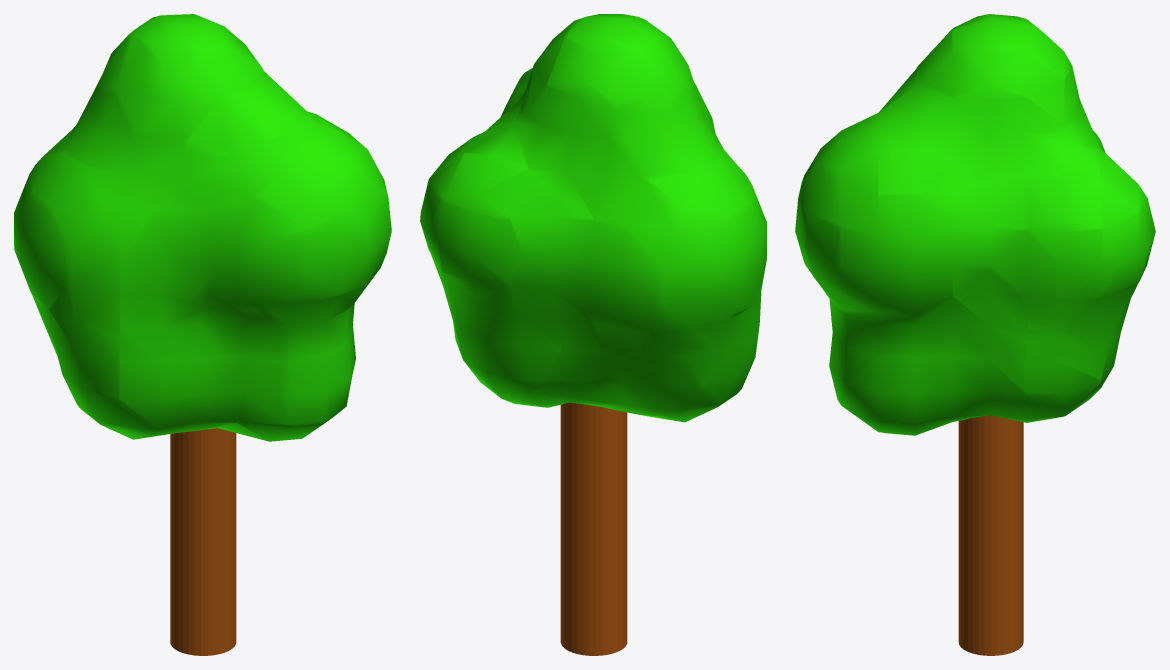
Rendered from agac2.fbx.
3 views of the same model, side by side, from view 1: azimuth 30°, elevation 25°; view 2: azimuth 150°, elevation 25°; view 3: azimuth 270°, elevation 25° (orthographic). The views are drawn at different scales.
Visible parts, largest first — view 1: Mball, Cylinder; view 2: Mball, Cylinder; view 3: Mball, Cylinder.
Part boxes in pixels (x1=…): Mball: x1=14, y1=14, x2=391, y2=441; Cylinder: x1=170, y1=428, x2=236, y2=655; Mball: x1=420, y1=14, x2=766, y2=422; Cylinder: x1=560, y1=402, x2=627, y2=655; Mball: x1=795, y1=14, x2=1155, y2=435; Cylinder: x1=958, y1=415, x2=1023, y2=655.
Bounding box in the file's own units: 753 × 1533 × 820.
